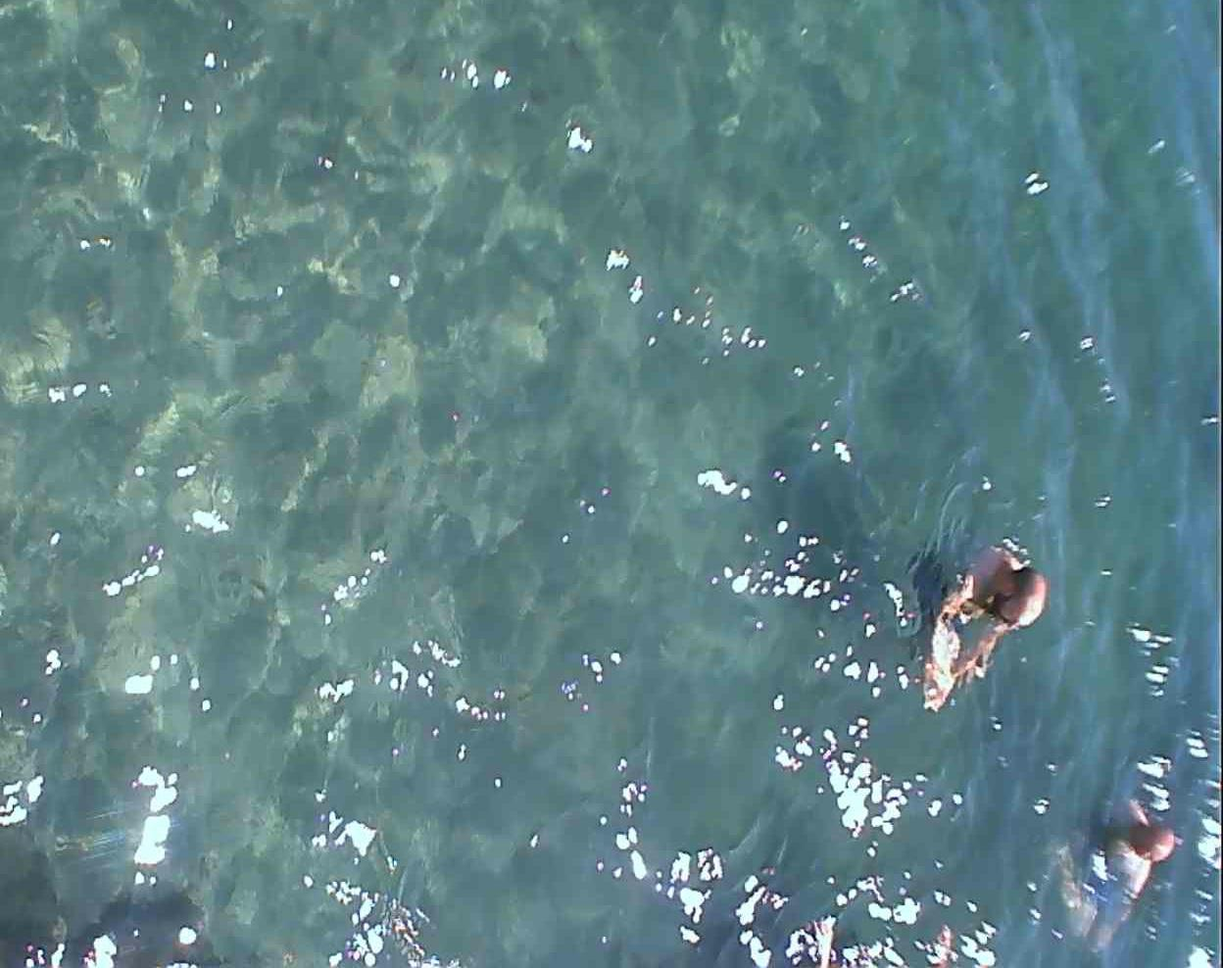swimmer: (910, 506, 1050, 734), (1083, 775, 1169, 949)
